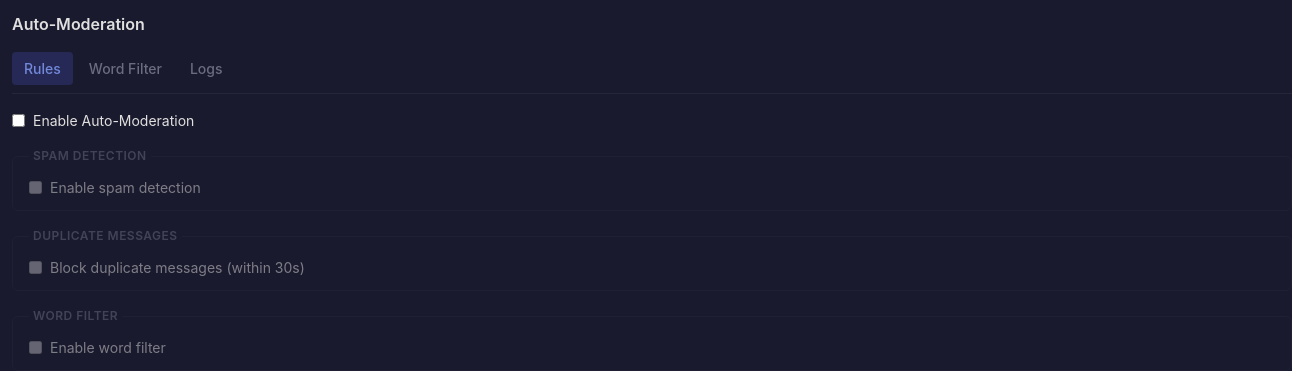
Test: AutomodSettings › shows "No automod actions yet" in logs tab when logs are empty
Click the button "Logs" at (206, 68), box left=178, top=52, right=234, bottom=85
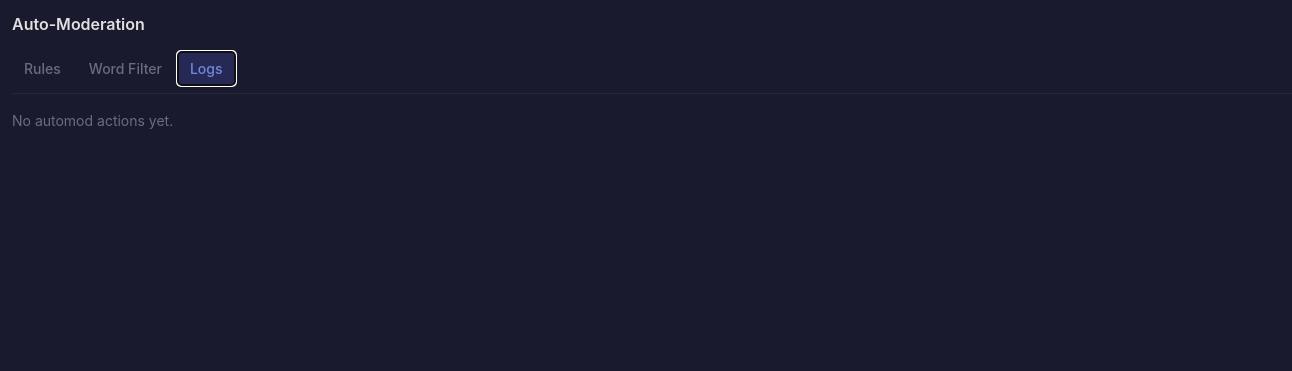
Expected: the text "No automod actions yet." is shown, left=12, top=112, right=173, bottom=129
